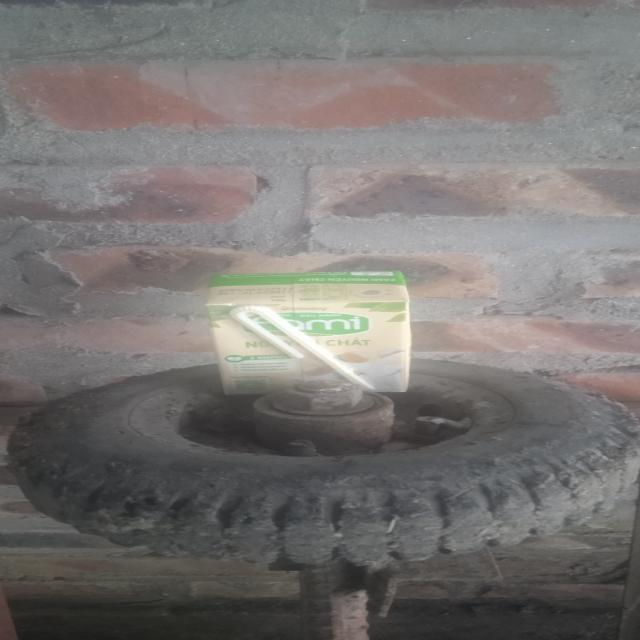Fami: (201, 270, 419, 395)
